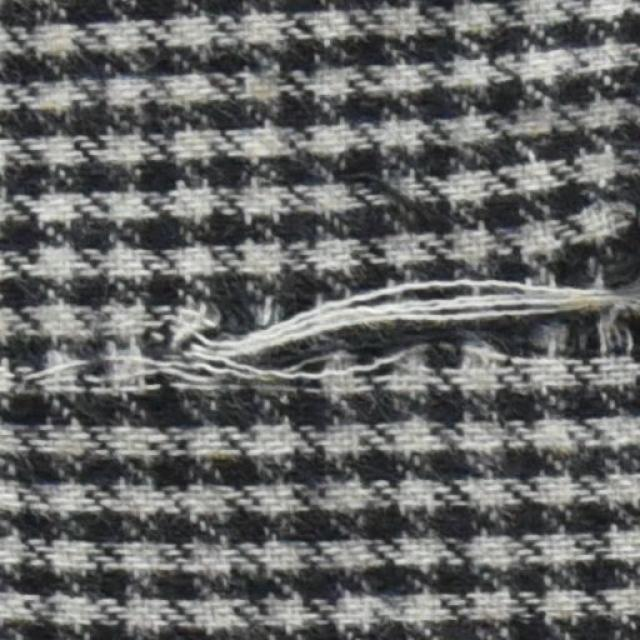Snag: (24, 223, 639, 412)
